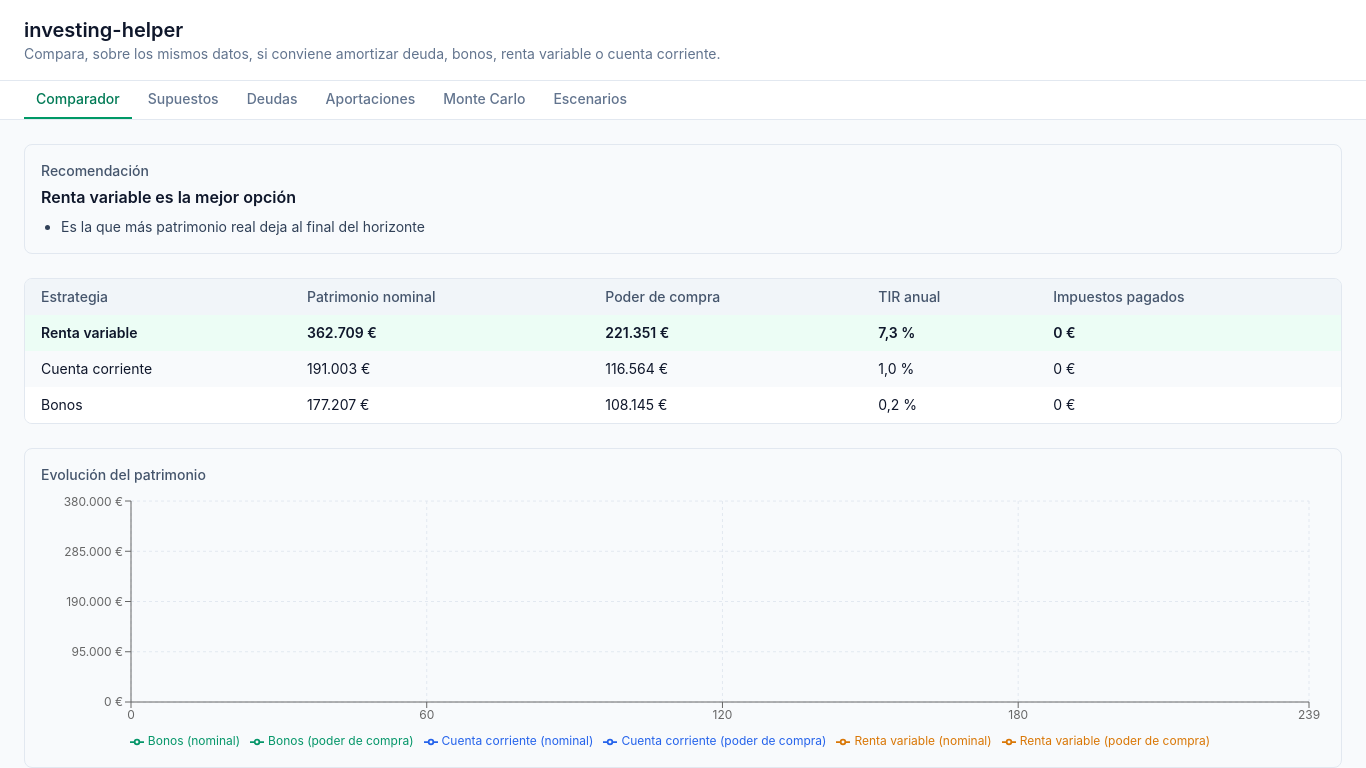
Test case: App › cambiar a Monte Carlo permite ejecutarlo sobre la estrategia de renta variable
The image size is (1366, 768).
Expected: the button "Comparador" is shown, [24, 81, 132, 119]
Click the button "Monte Carlo": (484, 100) [431, 81, 537, 119]
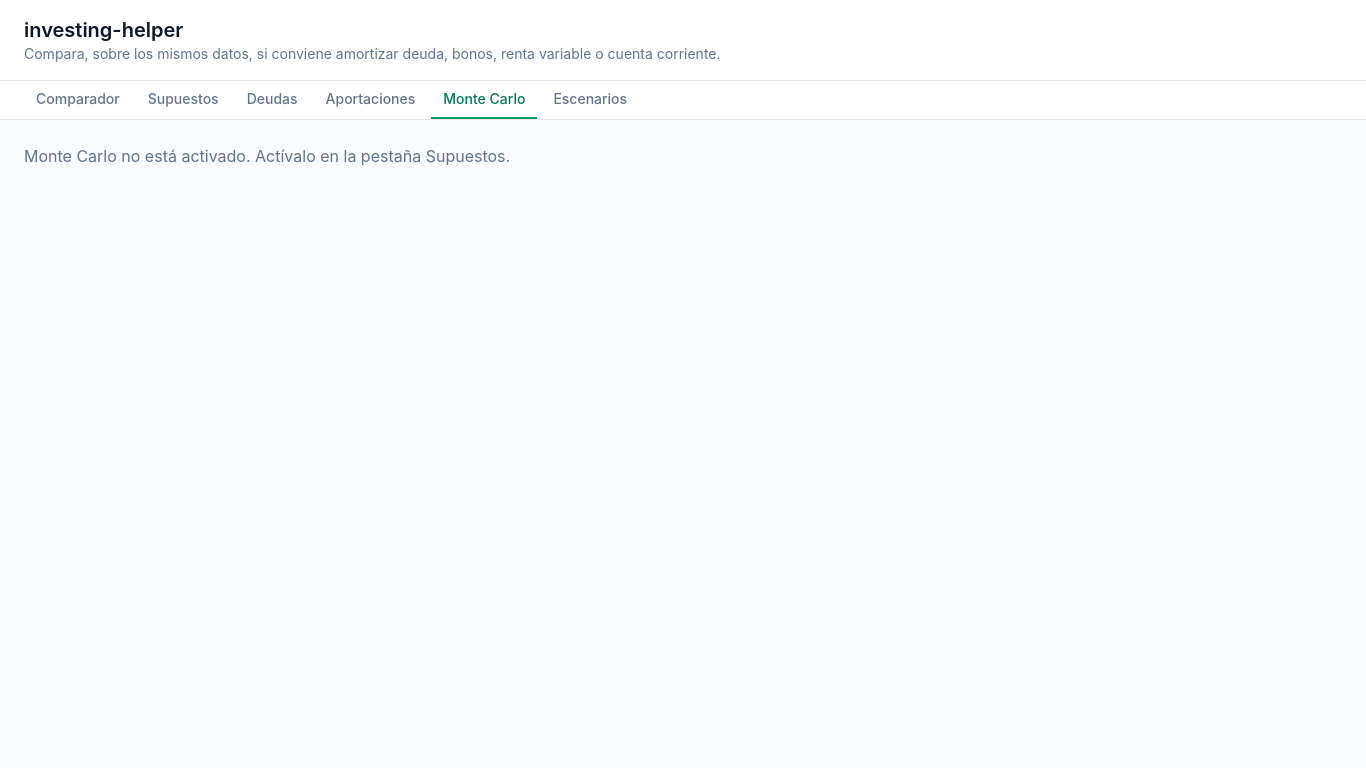
Expected: the text "Monte Carlo no está activado" is shown, [24, 146, 510, 166]
